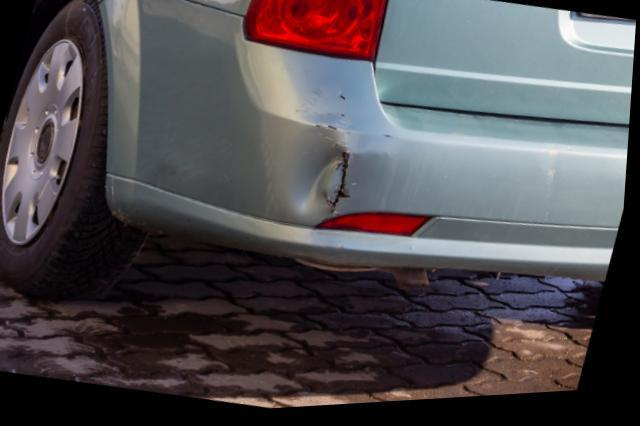crack: (329, 156, 353, 219)
dent: (290, 131, 349, 215)
scratch: (293, 87, 353, 134)
